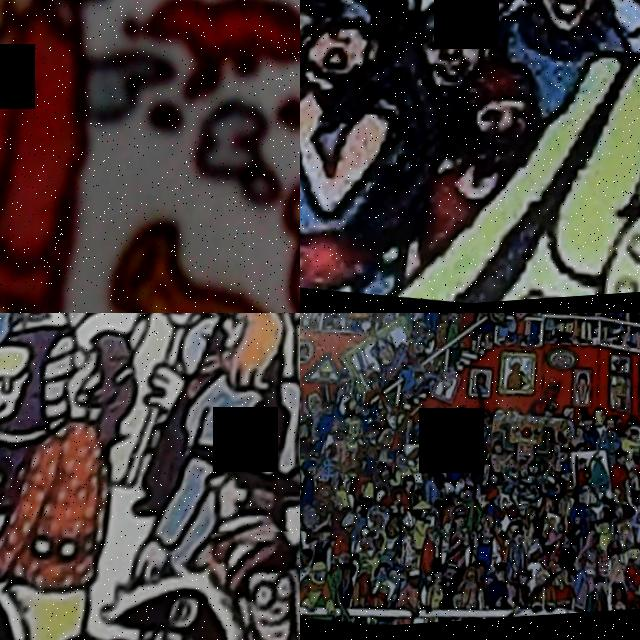waldo: (190, 524, 300, 640), (421, 0, 534, 31)
